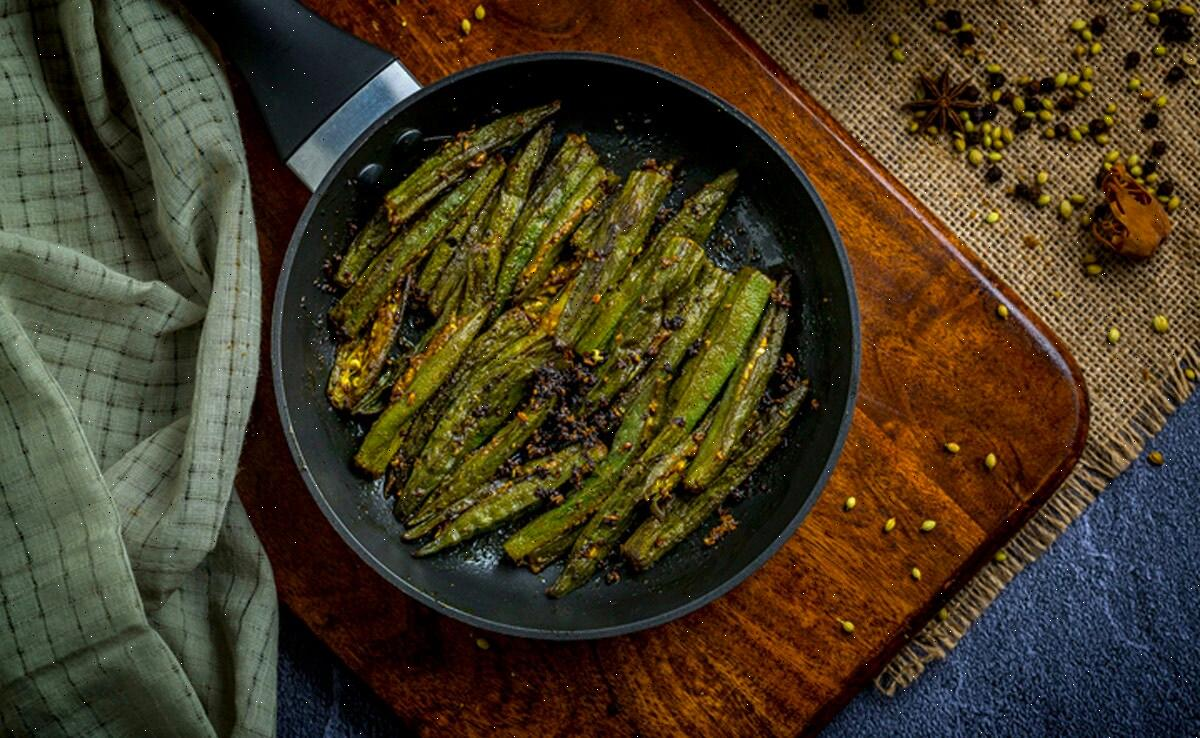bhindi: (355, 155, 791, 606)
